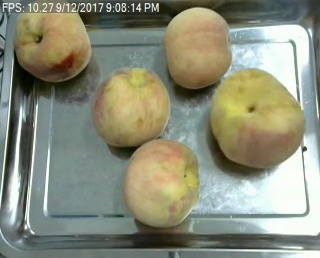Peach: (210, 67, 304, 168), (125, 138, 200, 228), (91, 66, 171, 148), (14, 0, 93, 82), (163, 6, 233, 89)
